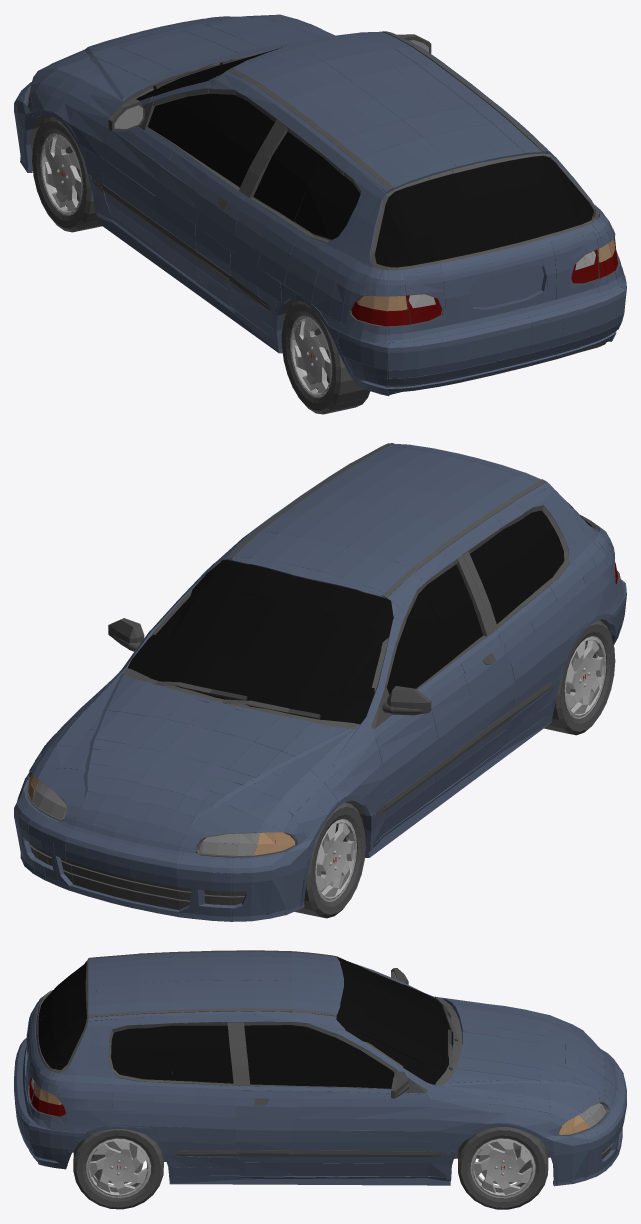
File: civiceg.glb
The picture shows the model from 3 angles, top to bottom: view 1: azimuth 30°, elevation 25°; view 2: azimuth 150°, elevation 25°; view 3: azimuth 270°, elevation 25°; orthographic projection. The views are drawn at different scales.
Visible parts, largest first — view 1: Object_3, Object_2, fusedwheel_1, fusedwheel_3; view 2: Object_3, fusedwheel_3, fusedwheel_1; view 3: Object_3, Object_4, Object_2, fusedwheel_2, fusedwheel_0.
Boxes of the visible parts, box(x1,y1,x2,y2) form: Object_3: box(14, 14, 626, 395); Object_2: box(294, 153, 600, 331); fusedwheel_1: box(281, 300, 370, 414); fusedwheel_3: box(32, 116, 101, 232); Object_3: box(14, 443, 626, 921); fusedwheel_3: box(294, 802, 365, 918); fusedwheel_1: box(544, 620, 615, 735); Object_3: box(14, 950, 626, 1186); Object_4: box(235, 1022, 435, 1176); Object_2: box(24, 960, 394, 1106); fusedwheel_2: box(458, 1127, 548, 1209); fusedwheel_0: box(73, 1129, 163, 1209).
Bounding box in the file's own units: 1.9 × 1.34 × 4.07.
